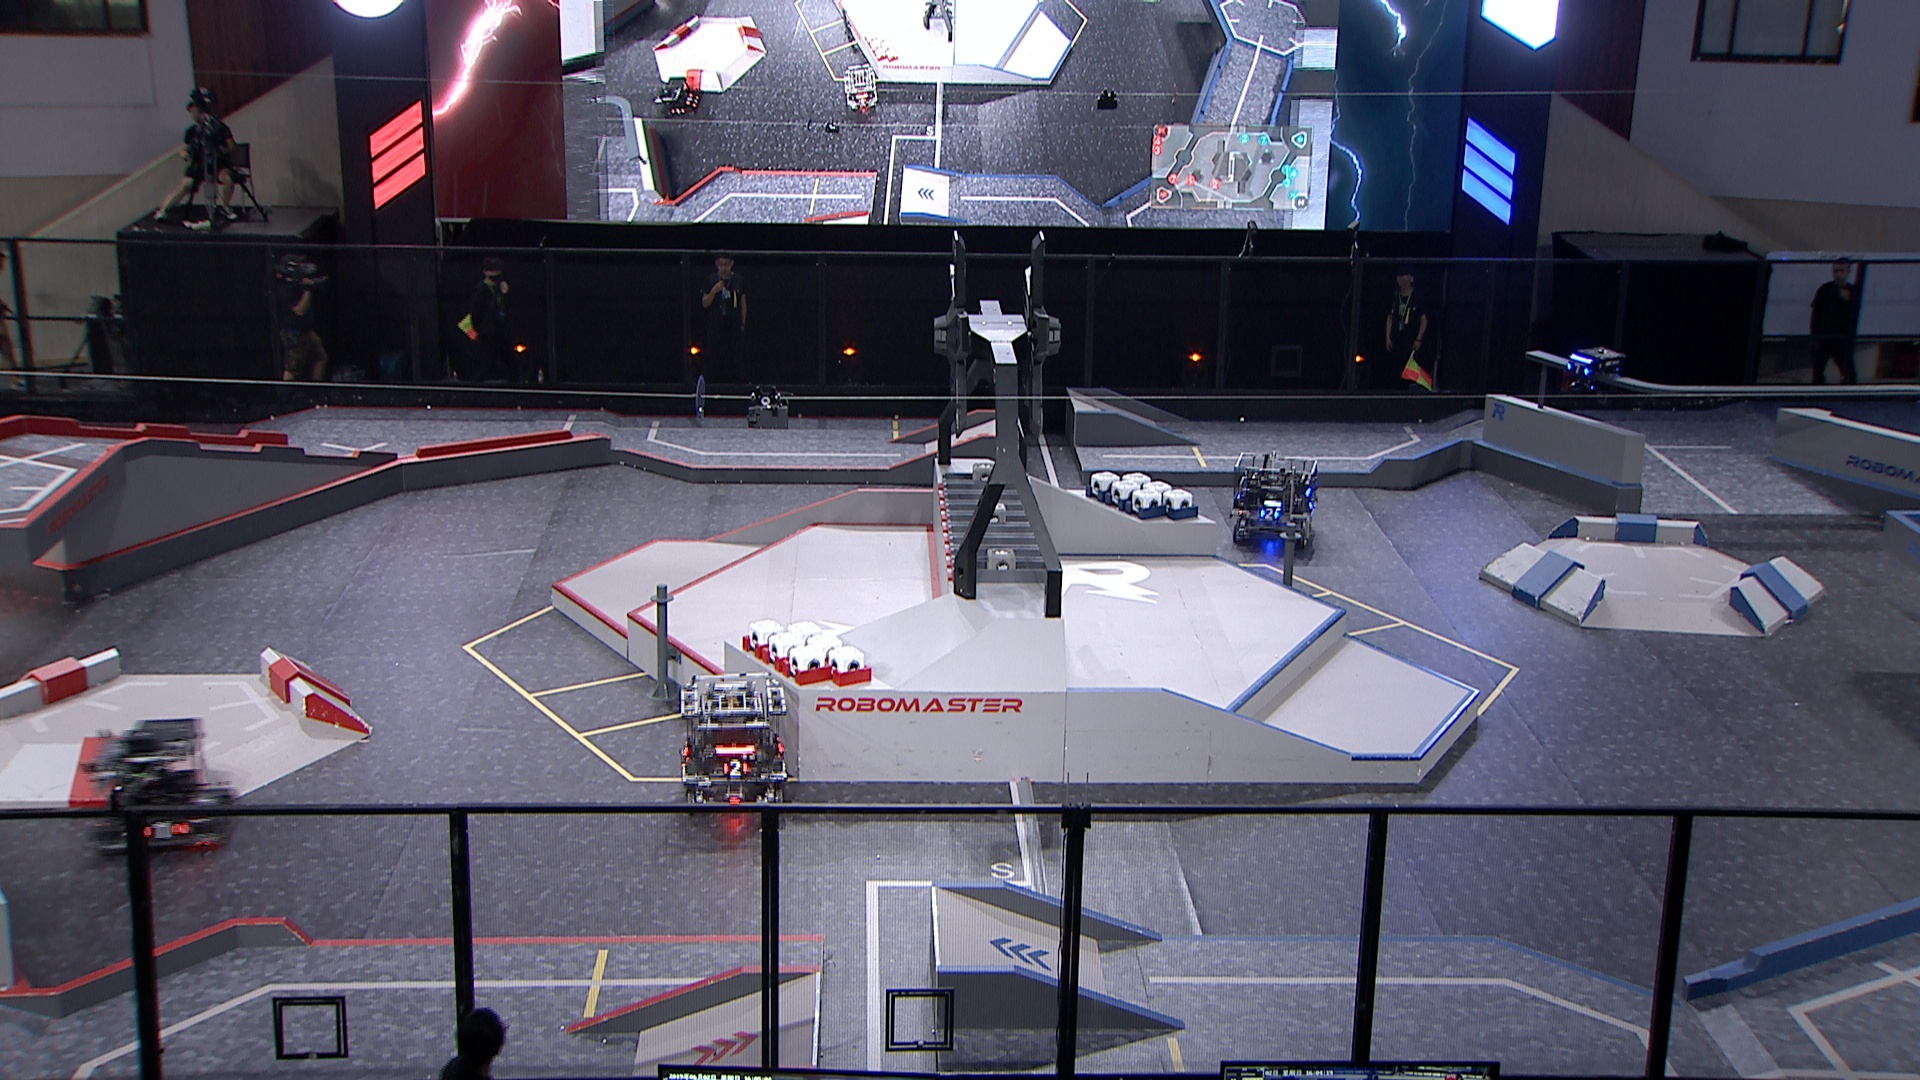armor: (138, 818, 191, 843), (723, 757, 750, 778), (1257, 506, 1282, 522), (1565, 361, 1590, 376), (679, 740, 694, 760)
car: (86, 717, 237, 856), (676, 673, 793, 822), (1230, 450, 1319, 549)
ignore: (655, 76, 702, 119), (844, 63, 878, 112)
watcher: (1563, 345, 1619, 394)
